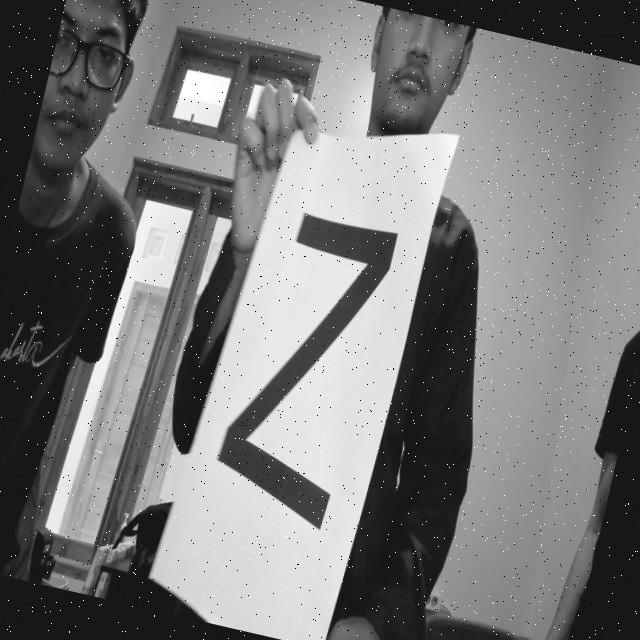z: (202, 188, 406, 542)
